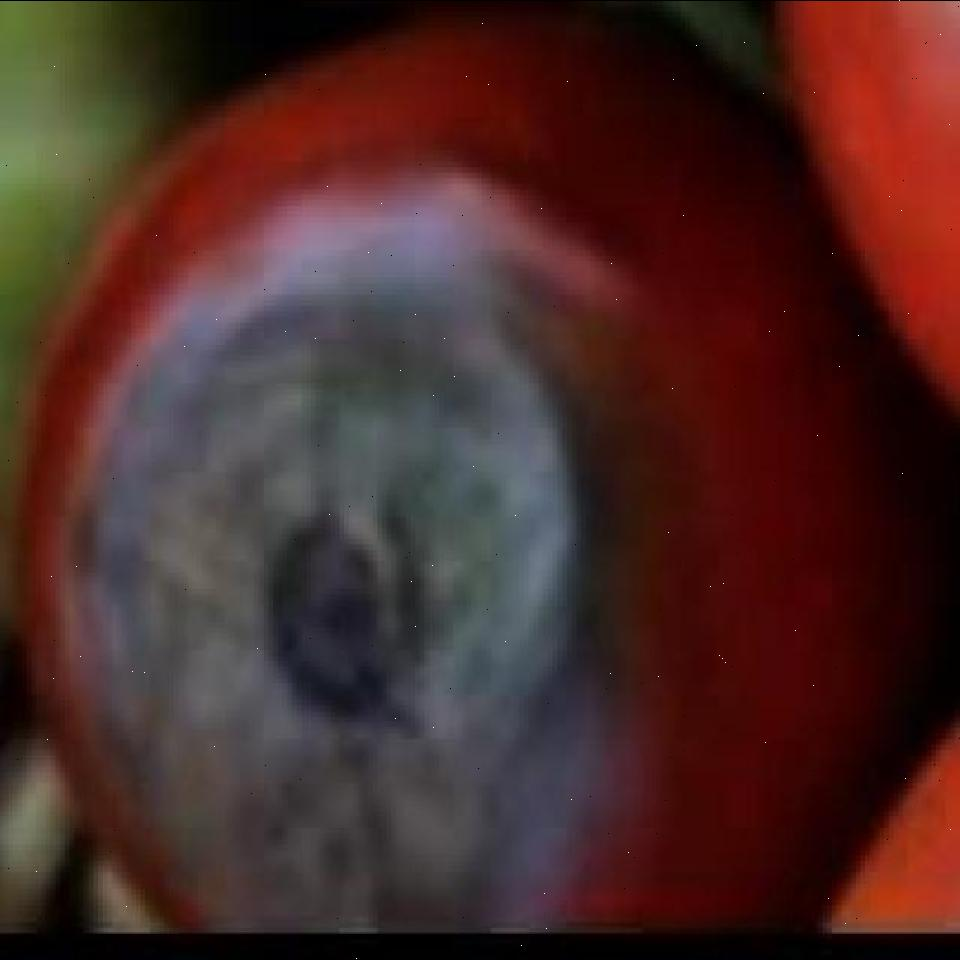Blossom_end_rot: (31, 144, 686, 944)
